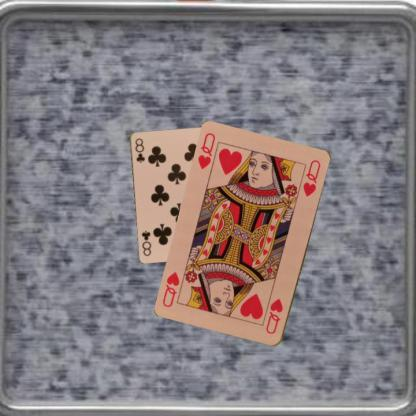8c: (132, 136, 146, 164)
Qh: (263, 296, 285, 336), (195, 131, 217, 171)
